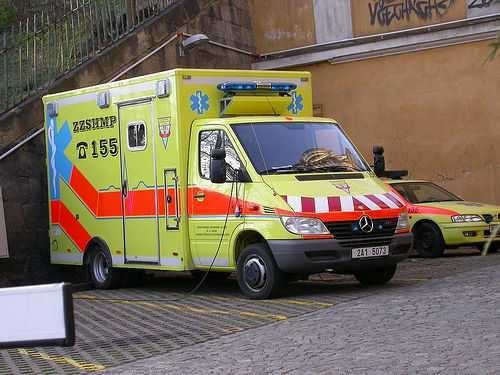car: (41, 67, 413, 299)
